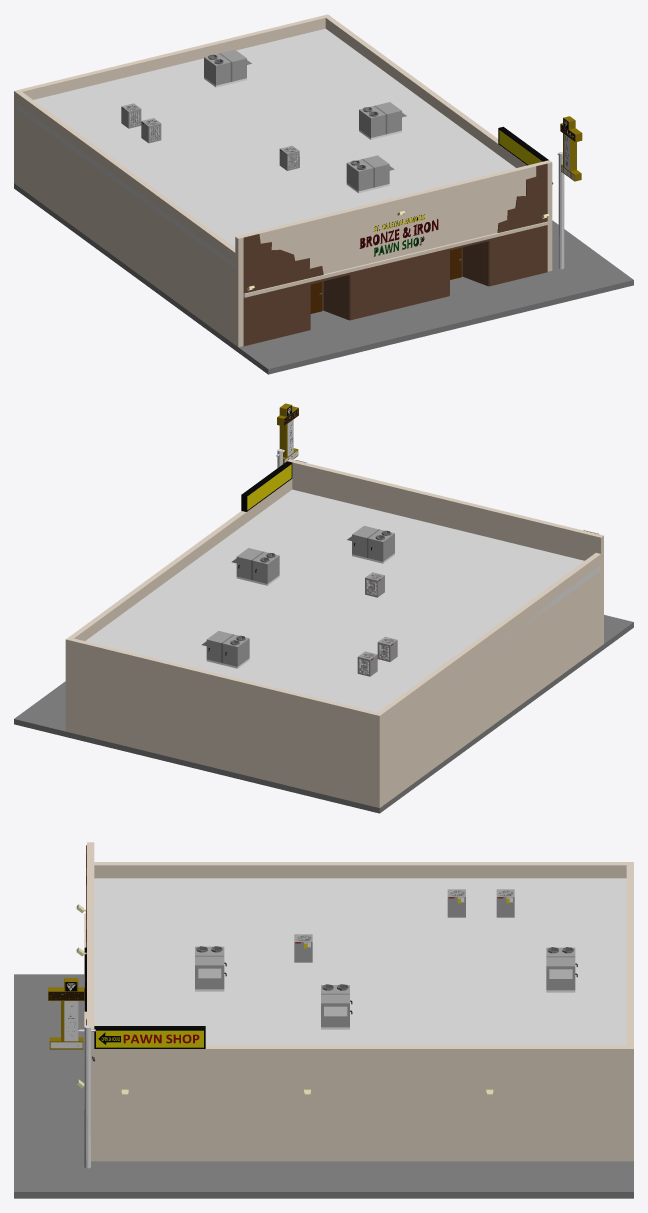
File: Pawn Shop.glb
3 renders of one model, top to bottom at view 1: azimuth 30°, elevation 25°; view 2: azimuth 150°, elevation 25°; view 3: azimuth 270°, elevation 25°, orthographic. The views are drawn at different scales.
Parts seen in each view (by area): view 1: Ext Walls, Roof, Ground, RTUs, Doorways, Text, Sign, Other Sign, Post, Doors; view 2: Ext Walls, Roof, Ground, RTUs, Other Sign, Sign; view 3: Roof, Ext Walls, Ground, RTUs, Other Sign, Sign, Post, Sign Text.
Part boxes in pixels (box(x1,y1,x2,y2)): Ext Walls: box(14, 14, 552, 347); Roof: box(17, 28, 515, 268); Ground: box(14, 183, 633, 374); RTUs: box(121, 49, 406, 193); Doorways: box(310, 241, 488, 329); Text: box(359, 214, 438, 256); Sign: box(560, 116, 582, 181); Other Sign: box(498, 126, 548, 165); Post: box(557, 152, 564, 269); Doors: box(310, 247, 461, 313); Ext Walls: box(65, 459, 603, 807); Roof: box(85, 489, 600, 723); Ground: box(14, 615, 633, 813); RTUs: box(202, 525, 397, 676); Other Sign: box(241, 461, 292, 511); Sign: box(277, 403, 298, 463); Roof: box(94, 878, 626, 1045); Ext Walls: box(84, 842, 633, 1161); Ground: box(14, 974, 633, 1198); RTUs: box(195, 889, 577, 1029); Other Sign: box(94, 1026, 205, 1048); Sign: box(48, 978, 84, 1049); Post: box(78, 1025, 95, 1168); Sign Text: box(101, 1034, 199, 1043).
Bounding box in the file's own units: 21.52 × 9.07 × 25.91.
